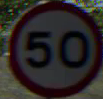Speed limit: (8, 5, 94, 89)
